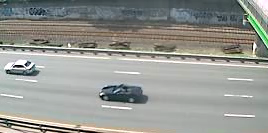car: (97, 81, 148, 105), (3, 58, 38, 78)
